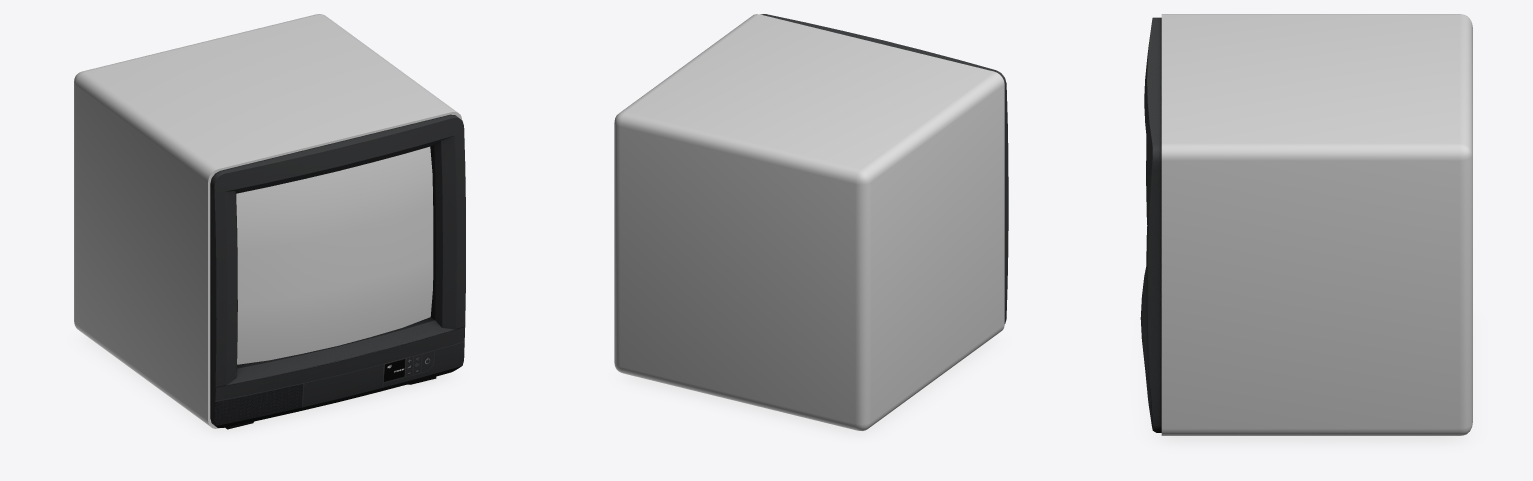
The picture shows the model from 3 angles, left to right: view 1: azimuth 30°, elevation 25°; view 2: azimuth 150°, elevation 25°; view 3: azimuth 270°, elevation 25°; orthographic projection. The views are drawn at different scales.
Visible parts, largest first — view 1: texture, Frame, Shadow; view 2: texture, Shadow, Frame; view 3: texture, Frame, Shadow.
Boxes of the visible parts, box(x1,y1,x2,y2) form: texture: box(74, 14, 461, 428); Frame: box(210, 114, 465, 429); Shadow: box(78, 334, 458, 437); texture: box(614, 14, 1004, 431); Shadow: box(618, 336, 1000, 439); Frame: box(760, 14, 1008, 323); texture: box(1161, 14, 1472, 435); Frame: box(1140, 17, 1161, 432); Shadow: box(1144, 319, 1474, 448).
Bounding box in the file's own units: 1.28 × 1 × 1.28.
3 materials, 2 textured.
